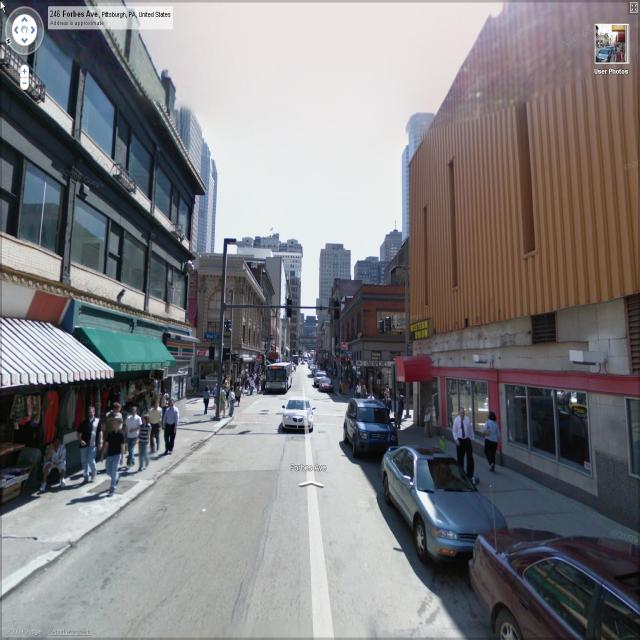b_1: (413, 37, 640, 410), (0, 11, 178, 390), (160, 84, 216, 252), (201, 260, 264, 395), (342, 288, 422, 390), (399, 99, 445, 234), (305, 238, 352, 348), (280, 237, 306, 367), (368, 226, 398, 301), (262, 270, 282, 361), (357, 251, 393, 285)
